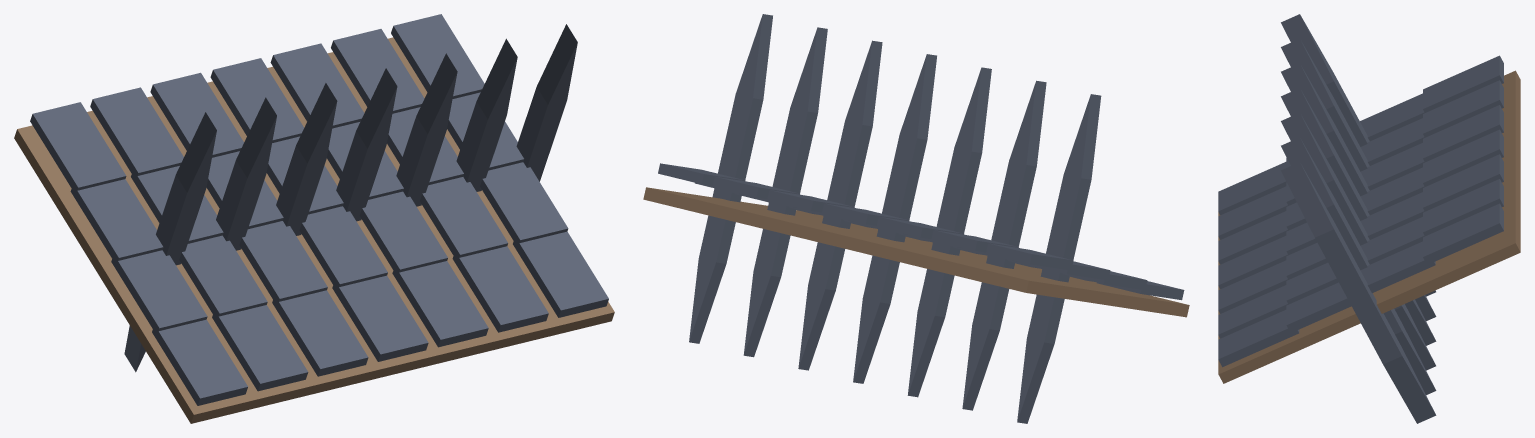
The model's file is roof_tile.glb.
The picture shows the model from 3 angles, left to right: view 1: azimuth 30°, elevation 25°; view 2: azimuth 150°, elevation 25°; view 3: azimuth 270°, elevation 25°; orthographic projection. The views are drawn at different scales.
Parts seen in each view (by area): view 1: roof_tile; view 2: roof_tile; view 3: roof_tile.
Part boxes in pixels (x1,y1,x2,y2): roof_tile: [14, 14, 614, 423]; roof_tile: [643, 14, 1189, 423]; roof_tile: [1218, 14, 1520, 423].
Bounding box in the file's own units: 2.15 × 1.49 × 1.56.
